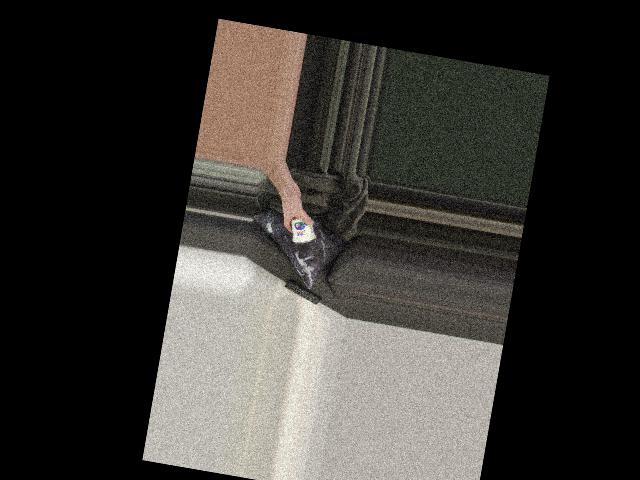cotage: (284, 210, 320, 249)
